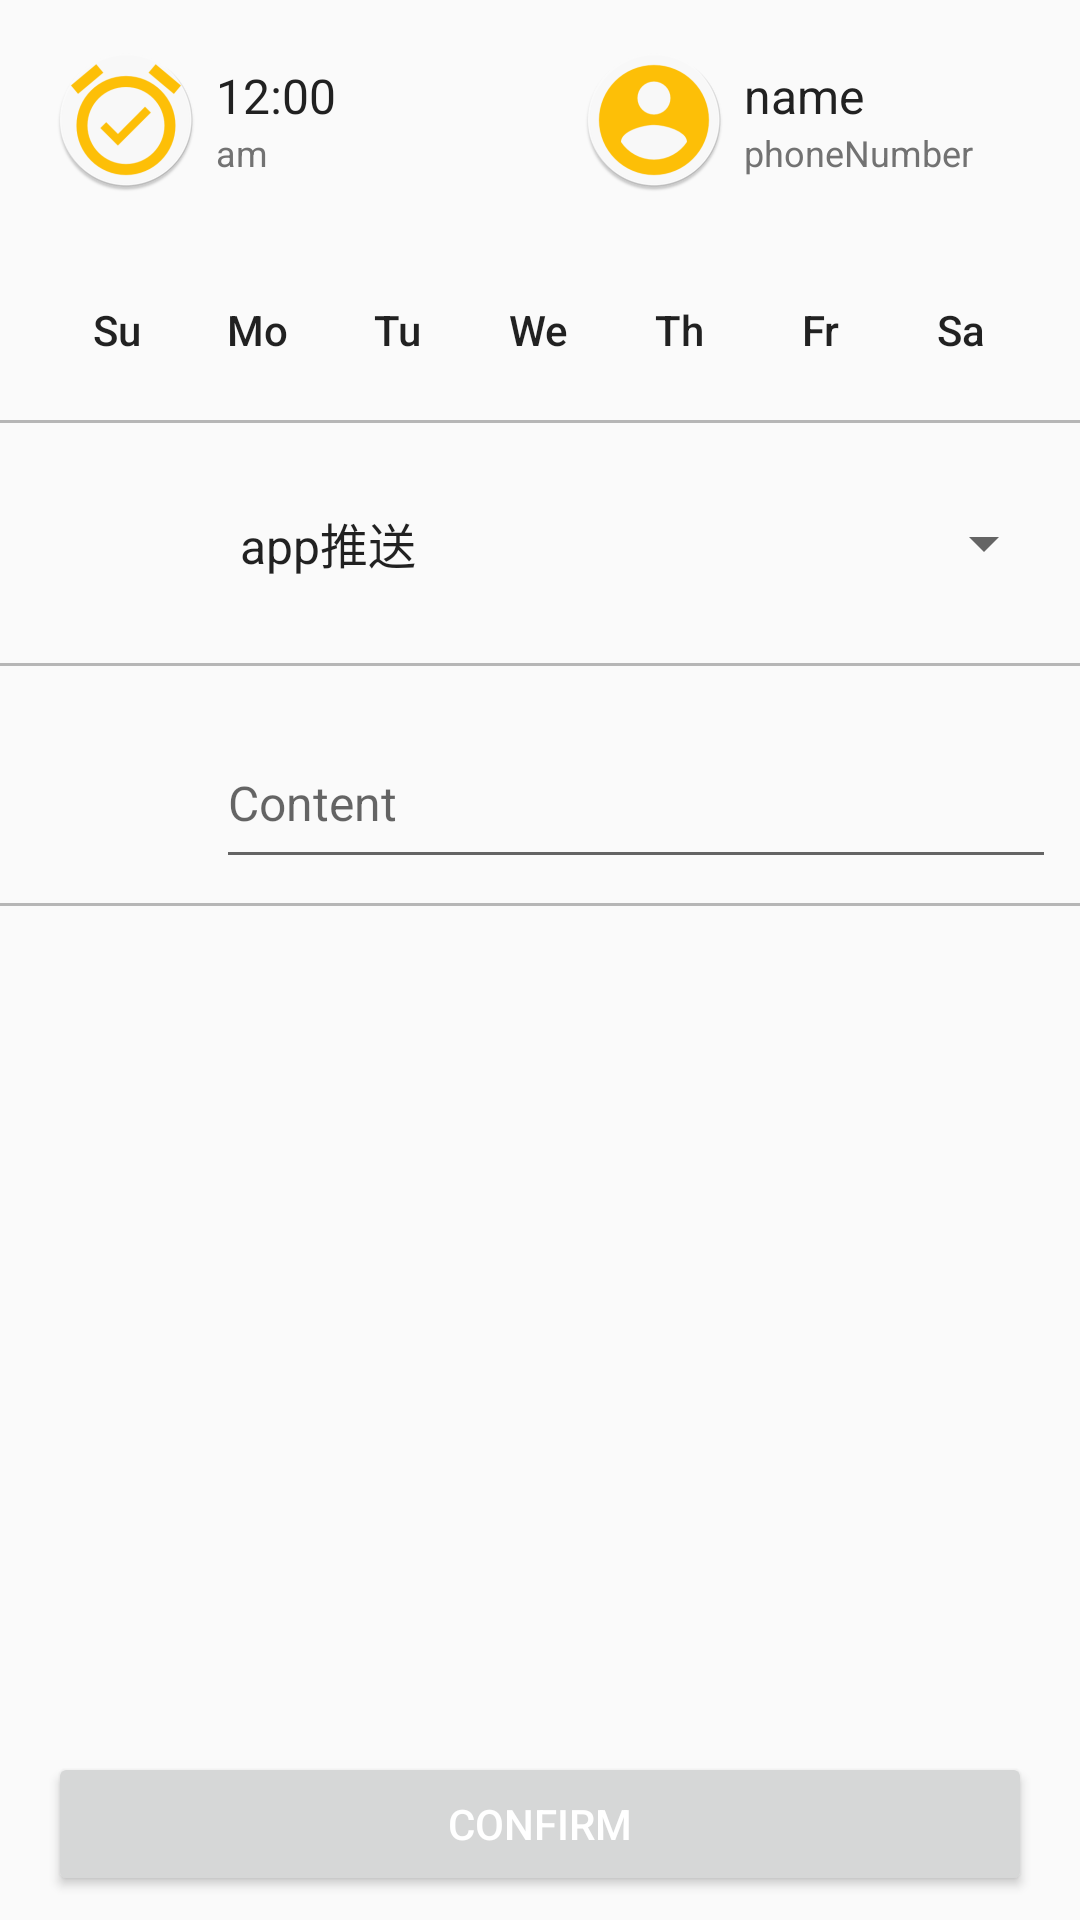

Where icons sit on this 1080px×1920px app screen, as (x1, y1, x2, y2):
alarm: (61, 64, 193, 189)
contact: (589, 64, 721, 189)
